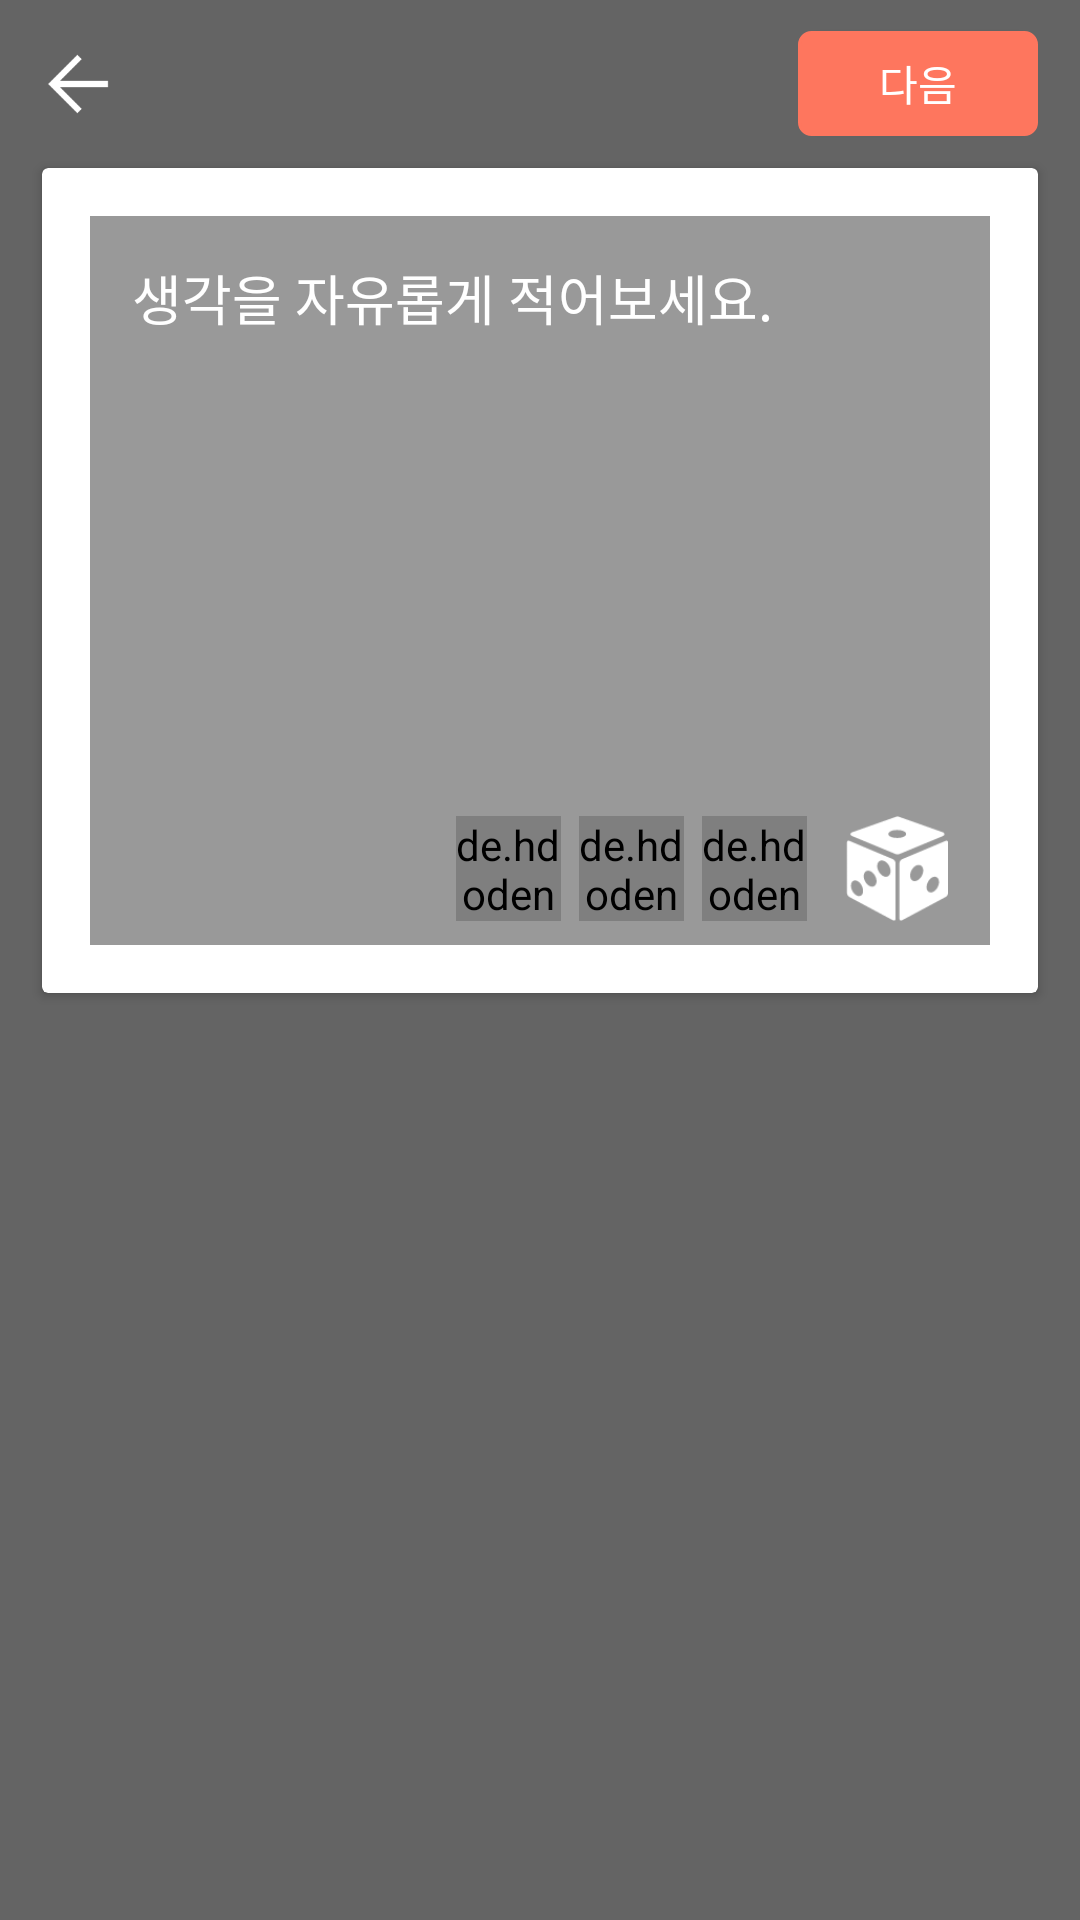

Named icons in this screenshot (1080px x 1920px) and their centers, point (x, y):
back: point (78, 84)
dice: point (897, 868)
